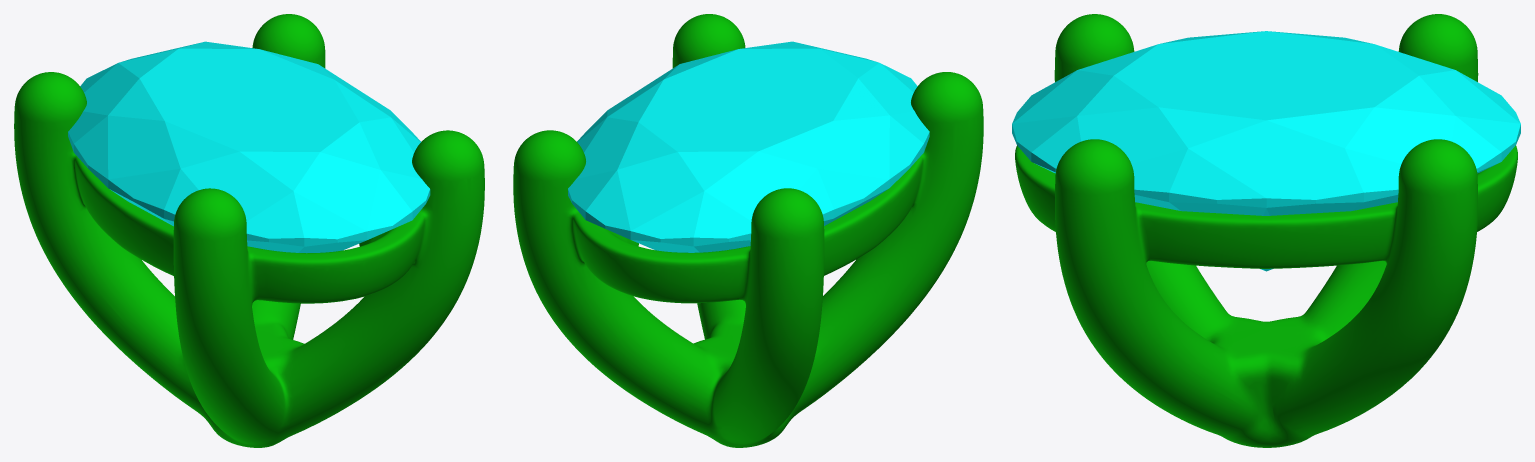
3 renders of one model, left to right at view 1: azimuth 30°, elevation 25°; view 2: azimuth 150°, elevation 25°; view 3: azimuth 270°, elevation 25°, orthographic. The views are drawn at different scales.
Parts seen in each view (by area): view 1: Metal01, Diamond_Oval; view 2: Metal01, Diamond_Oval; view 3: Metal01, Diamond_Oval.
Boxes of the visible parts, x1,y1,x2,y2 form: Metal01: [14, 14, 484, 447]; Diamond_Oval: [68, 41, 430, 253]; Metal01: [513, 14, 983, 447]; Diamond_Oval: [568, 41, 929, 252]; Metal01: [1015, 14, 1517, 447]; Diamond_Oval: [1012, 31, 1520, 271].
Bounding box in the file's own units: 4.8 × 5.09 × 6.5.
